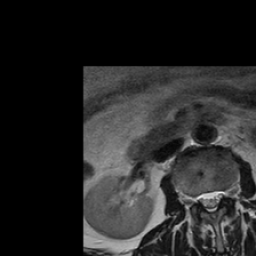CCS_normal: (206, 182, 214, 219)
LFS_normal: (222, 180, 231, 206)
LLS_normal: (214, 181, 222, 211)
RFS_stenosis: (190, 186, 198, 211)
RLS_normal: (198, 186, 206, 211)
